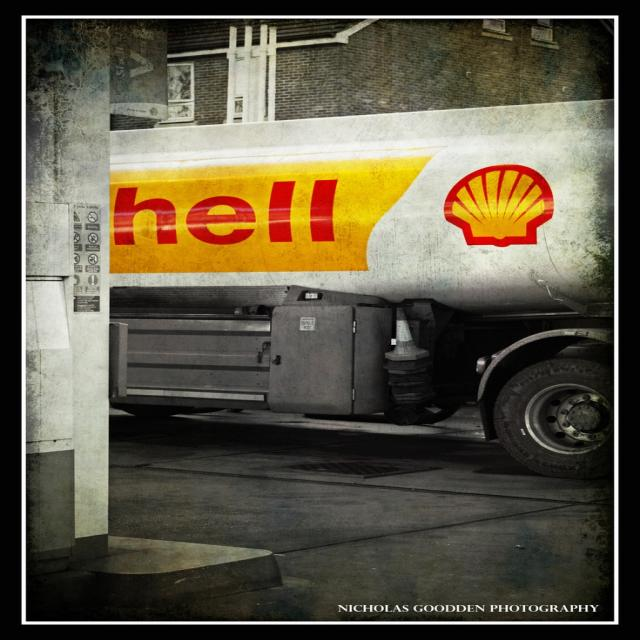shell: (444, 165, 557, 249)
